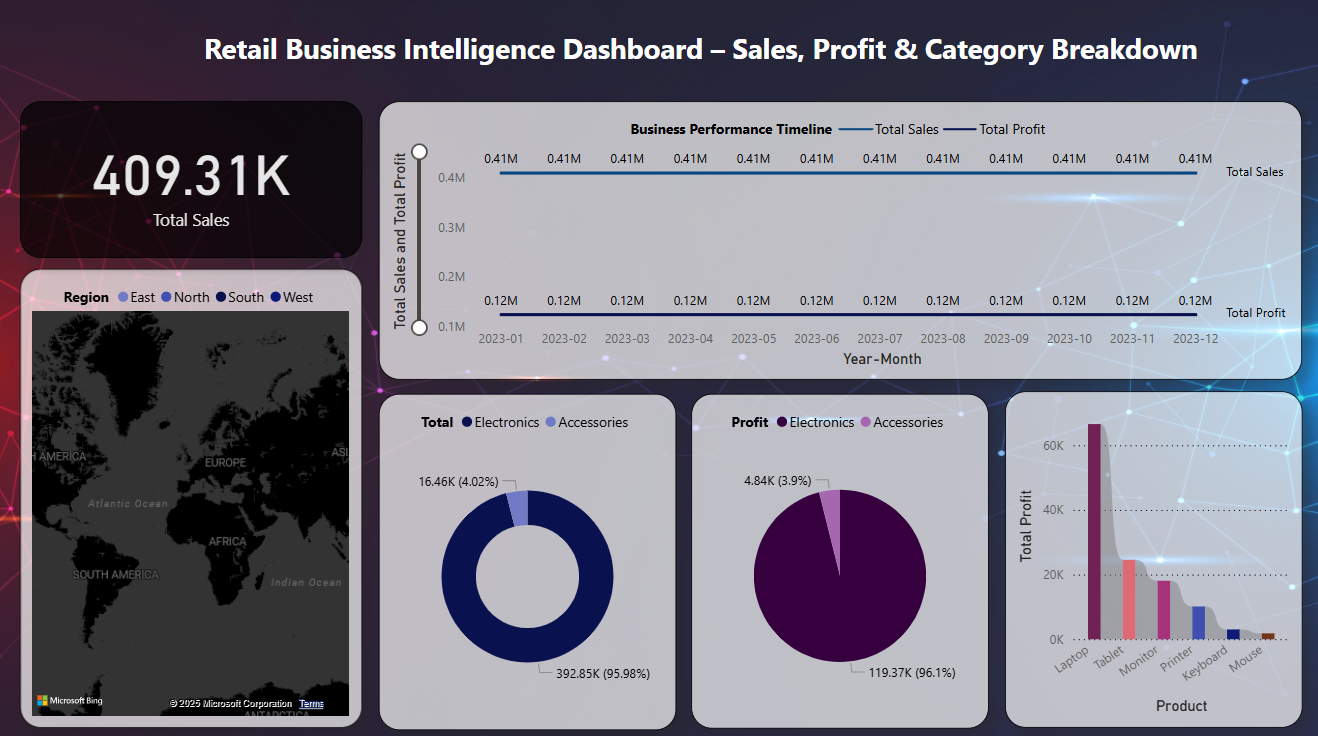

Layout of this report page (visuals, bound fields, positions):
{"tool":"powerbi","page":{"name":"Page 1","canvas":[1280,720],"ordinal":0},"visuals":[{"type":"lineChart","fields":{"Y":["RetailSales.Total Sales","RetailSales.Total Profit"],"Category":["DateTable.Year-Month"]},"box":[369.9,102.4,891.3,268.9],"z":0},{"type":"map","fields":{"Series":["RetailSales.Region"],"Size":["RetailSales.Total Sales"]},"box":[24.6,264.8,330.3,443.6],"z":1000},{"type":"card","title":"Total Sales","fields":{"Values":["RetailSales.Total Sales"]},"box":[24.6,102.4,330.3,151.5],"z":2000},{"type":"donutChart","fields":{"Category":["RetailSales.Category"],"Y":["RetailSales.Total Sales"]},"box":[370.4,384.9,287.1,324.5],"z":3000},{"type":"textbox","box":[42.2,27.7,1236.6,57.9],"z":4000},{"type":"pieChart","fields":{"Category":["RetailSales.Category"],"Y":["RetailSales.Total Profit"]},"box":[672,384.9,287.1,323.3],"z":4002},{"type":"ribbonChart","fields":{"Category":["RetailSales.Product"],"Y":["RetailSales.Total Profit"]},"box":[974.8,382.4,287.1,324.5],"z":4003}]}

Visuals, with their boxes in screenshot pixels (x1, y1, x2, y2), scaled from the page's 1280x720 canvas onto the 1318x736 screenshot:
lineChart - RetailSales.Total Sales x RetailSales.Total Profit: select_region(381, 105, 1299, 380)
map - RetailSales.Region x RetailSales.Total Sales: select_region(25, 271, 365, 724)
"Total Sales" card: select_region(25, 105, 365, 260)
donutChart - RetailSales.Category x RetailSales.Total Sales: select_region(381, 393, 677, 725)
textbox: select_region(43, 28, 1317, 88)
pieChart - RetailSales.Category x RetailSales.Total Profit: select_region(692, 393, 988, 724)
ribbonChart - RetailSales.Product x RetailSales.Total Profit: select_region(1004, 391, 1299, 723)
